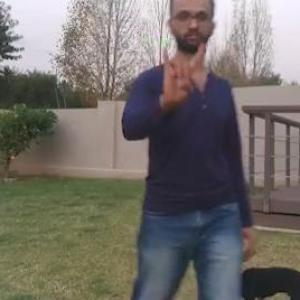takeoff-hand: (162, 40, 209, 106)
